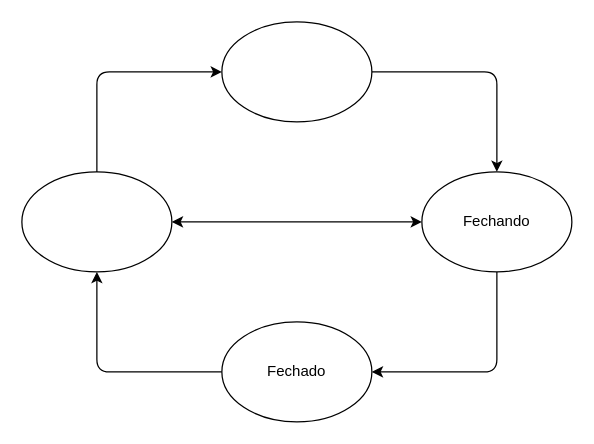
Some shapes in this 594 by 444 pixel diagram are drawn without their labels. Each missing label, with the box of its shape:
Aberto: (221, 21, 372, 122)
Abrindo: (21, 171, 172, 272)
